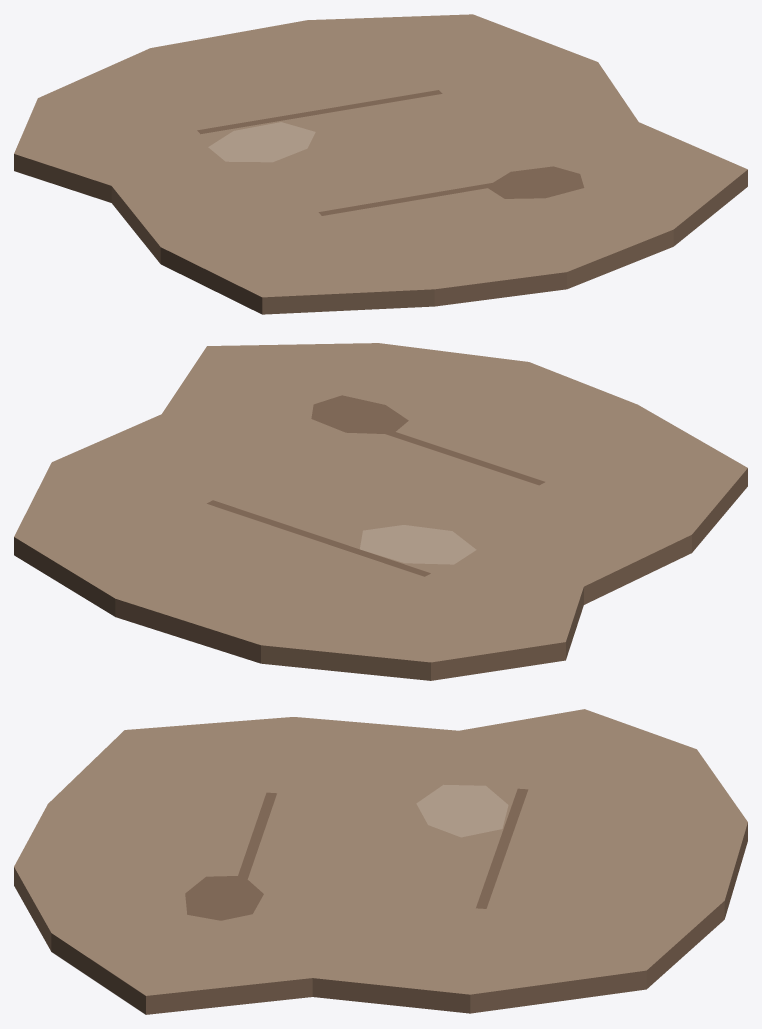
The model's file is HumanHide.glb.
3 views of the same model, one above another, from view 1: azimuth 30°, elevation 25°; view 2: azimuth 150°, elevation 25°; view 3: azimuth 270°, elevation 25° (orthographic). The views are drawn at different scales.
Parts seen in each view (by area): view 1: HumanHide; view 2: HumanHide; view 3: HumanHide.
Part boxes in pixels (x1=…): HumanHide: x1=14, y1=14, x2=747, y2=314; HumanHide: x1=14, y1=343, x2=747, y2=680; HumanHide: x1=14, y1=709, x2=747, y2=1014.
Size of the model in its own units: 1.62 by 0.061 by 1.76.
